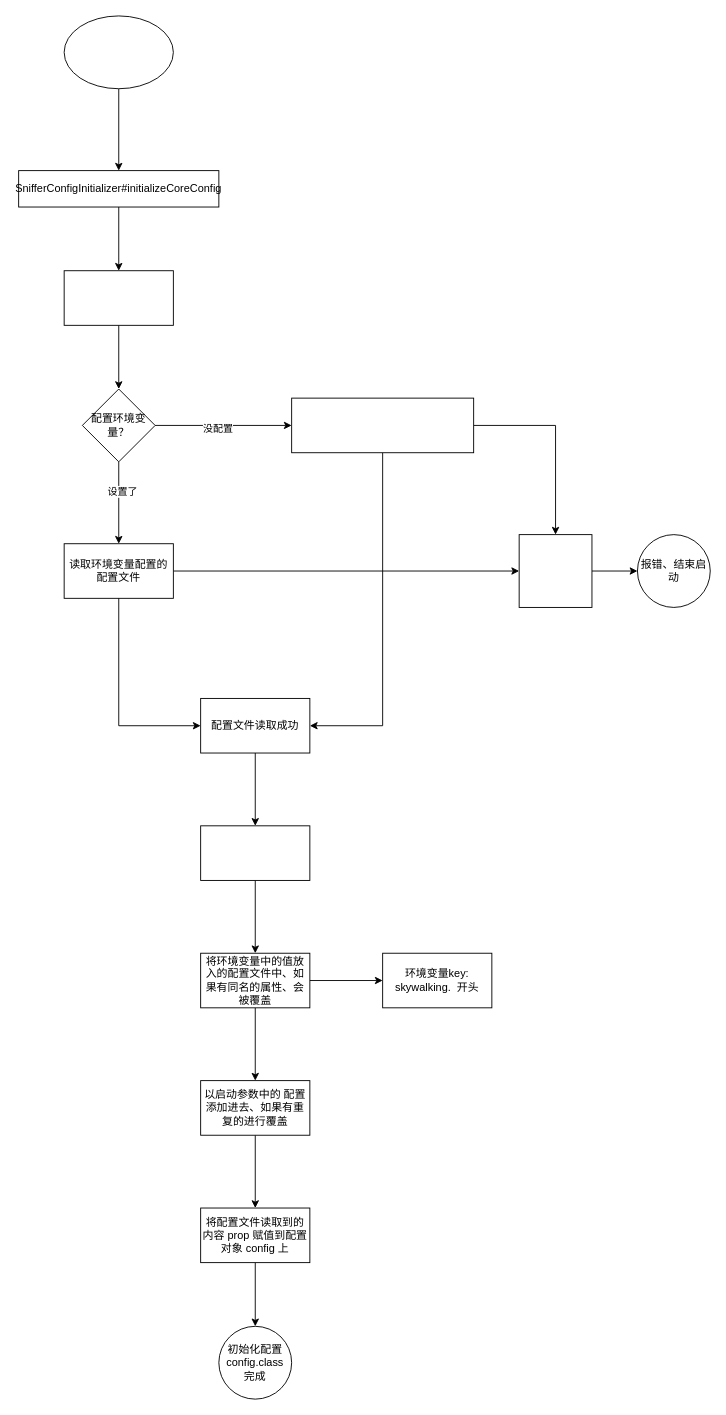
This 726x1415 diagram has some shape labels left out. Here are the shapes that lost their labels. From the top down, the box of each, then its label:
(63, 15, 173, 89): 初始化agent配置
(63, 270, 173, 325): 1. 从环境变量提取：skywalking_config
(291, 397, 474, 453): 读取默认配置文件：/config/agent.config
(518, 534, 592, 607): 配置文件不存在
(200, 825, 310, 880): 将配置文件读取到变量：AGENT_SETTINGS 中、一个properties
